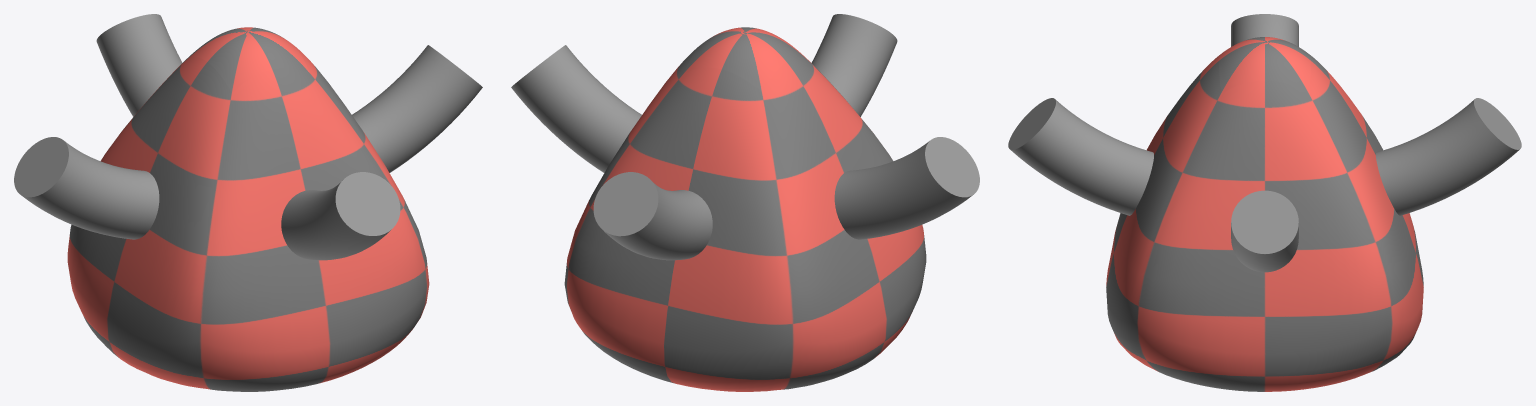
Rendered from Body(Pyramidal)+Colour(More_Red)+Pattern(Checkered)+Arm_Angle(Bent_Up).fbx.
3 views of the same model, side by side, from view 1: azimuth 30°, elevation 25°; view 2: azimuth 150°, elevation 25°; view 3: azimuth 270°, elevation 25° (orthographic). The views are drawn at different scales.
Parts seen in each view (by area): view 1: Body(Pyramidal)+Colour(More_Red)+Pattern(Checkered)+Arm_Angl (×5); view 2: Body(Pyramidal)+Colour(More_Red)+Pattern(Checkered)+Arm_Angl (×5); view 3: Body(Pyramidal)+Colour(More_Red)+Pattern(Checkered)+Arm_Angl (×5).
Boxes of the visible parts, x1,y1,x2,y2 form: Body(Pyramidal)+Colour(More_Red)+Pattern(Checkered)+Arm_Angl (×5): (14,14,482,391); Body(Pyramidal)+Colour(More_Red)+Pattern(Checkered)+Arm_Angl (×5): (511,14,979,391); Body(Pyramidal)+Colour(More_Red)+Pattern(Checkered)+Arm_Angl (×5): (1008,14,1521,391).
Size of the model in its own units: 60.67 by 40 by 60.67.
Materials: 2 (1 with a texture image).
